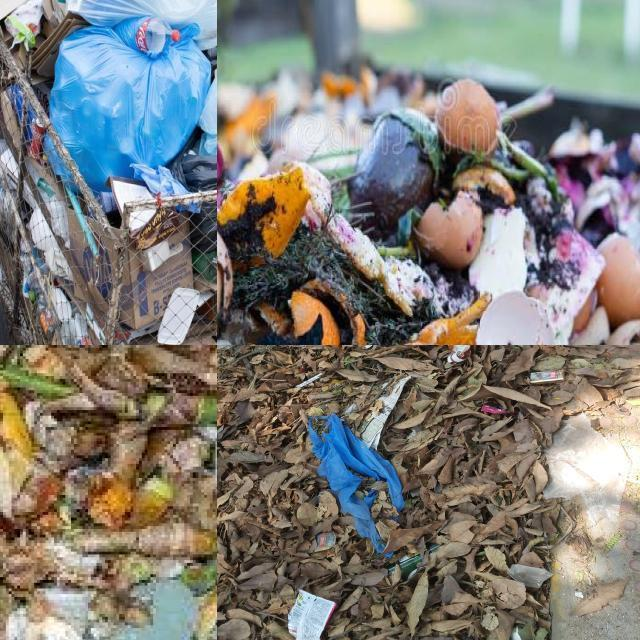Cig_pack: (529, 368, 564, 384), (313, 532, 336, 552)
Disposable: (157, 287, 200, 345)
Garbage: (217, 345, 640, 640), (217, 61, 640, 345), (0, 345, 217, 640)
Glass_bottle: (398, 555, 424, 581), (426, 543, 440, 553), (388, 568, 394, 573)
Plastic: (217, 426, 224, 434)
Plastic_Bag: (49, 26, 211, 192), (310, 414, 405, 553), (5, 0, 44, 50), (173, 152, 217, 191), (191, 202, 217, 253), (508, 565, 552, 588), (447, 345, 472, 363), (296, 373, 323, 387), (461, 637, 476, 640)
Plastic_Container: (510, 625, 524, 640)
Plastic_bottle: (114, 16, 181, 58), (68, 312, 94, 345), (193, 251, 217, 283)
Plastic_wraper: (289, 589, 336, 640), (482, 404, 506, 414)
can: (28, 119, 45, 158)
